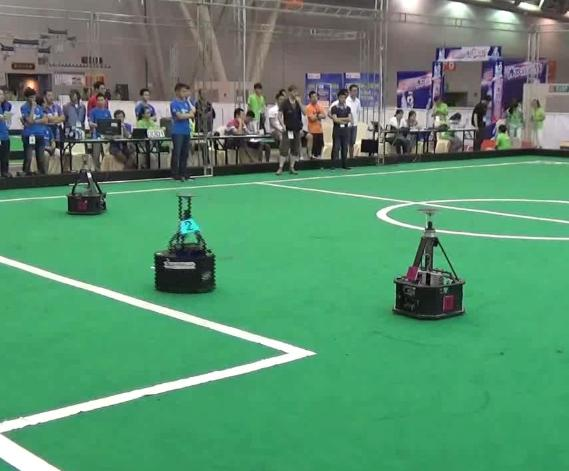robot: (394, 207, 466, 320), (148, 191, 222, 295)
